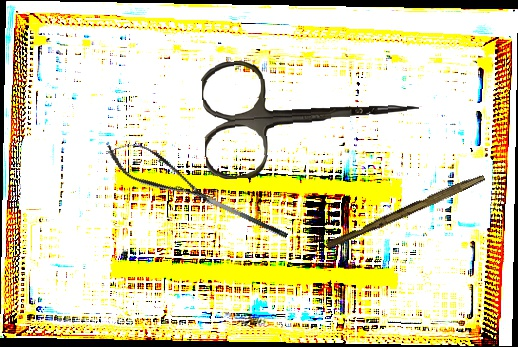Iris Scissors: (200, 51, 423, 181)
Micro Scissor: (99, 130, 220, 216)
Scalpel Handle: (325, 169, 486, 253)
Spatula Surgical: (171, 179, 289, 248)
